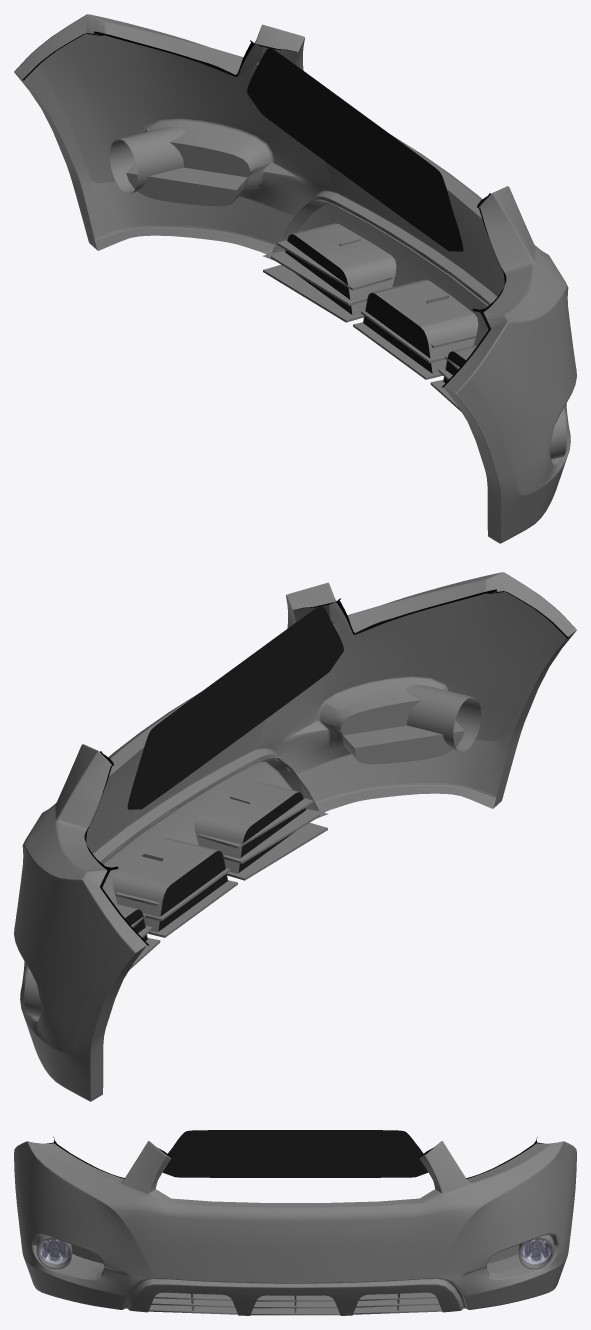
The picture shows the model from 3 angles, top to bottom: view 1: azimuth 30°, elevation 25°; view 2: azimuth 150°, elevation 25°; view 3: azimuth 270°, elevation 25°; orthographic projection. The views are drawn at different scales.
Visible parts, largest first — view 1: Y653_021G_C_Y653_021G_C_4_DaS, Y653_021G_C_Y653_021G_C_6_D, Y653_021G_C_Y653_021G_C_3_DaS, Y653_021G_C_Y653_021G_C_4_DaS_E, Y653_021G_C_Y653_021G_C_7_D; view 2: Y653_021G_C_Y653_021G_C_4_DaS, Y653_021G_C_Y653_021G_C_6_D, Y653_021G_C_Y653_021G_C_4_DaS_E, Y653_021G_C_Y653_021G_C_9_DaS, Y653_021G_C_Y653_021G_C_3_DaS, Y653_021G_C_Y653_021G_C_7_D; view 3: Y653_021G_C_Y653_021G_C_4_DaS, Y653_021G_C_Y653_021G_C_6_D, Y653_021G_C_Y653_021G_C_4_DaS_E, Y653_021G_C_Y653_021G_C_3_DaS, Y653_021G_C_Y653_021G_C_9_DaS, Y653_021G_C_1_N_Y653_021G_C, Y653_021G_C_Y653_021G_C_2_N, Y653_021G_C_Y653_021G_C_5__DTaSI, Y653_021G_C_Y653_021G_C_8__DTaSI, Y653_021G_C_Y653_021G_C_7_D.
Part boxes in pixels (left/top/right/bottom): Y653_021G_C_Y653_021G_C_4_DaS: left=14, top=14, right=576, bottom=543; Y653_021G_C_Y653_021G_C_6_D: left=247, top=48, right=465, bottom=382; Y653_021G_C_Y653_021G_C_3_DaS: left=109, top=121, right=566, bottom=459; Y653_021G_C_Y653_021G_C_4_DaS_E: left=142, top=118, right=576, bottom=464; Y653_021G_C_Y653_021G_C_7_D: left=22, top=31, right=506, bottom=387; Y653_021G_C_Y653_021G_C_4_DaS: left=14, top=572, right=576, bottom=1101; Y653_021G_C_Y653_021G_C_6_D: left=125, top=606, right=343, bottom=940; Y653_021G_C_Y653_021G_C_4_DaS_E: left=14, top=676, right=448, bottom=1022; Y653_021G_C_Y653_021G_C_9_DaS: left=326, top=679, right=466, bottom=764; Y653_021G_C_Y653_021G_C_3_DaS: left=24, top=685, right=481, bottom=1020; Y653_021G_C_Y653_021G_C_7_D: left=84, top=589, right=568, bottom=945; Y653_021G_C_Y653_021G_C_4_DaS: left=14, top=1141, right=576, bottom=1315; Y653_021G_C_Y653_021G_C_6_D: left=162, top=1130, right=428, bottom=1177; Y653_021G_C_Y653_021G_C_4_DaS_E: left=31, top=1233, right=559, bottom=1315; Y653_021G_C_Y653_021G_C_3_DaS: left=36, top=1234, right=557, bottom=1278; Y653_021G_C_Y653_021G_C_9_DaS: left=33, top=1234, right=103, bottom=1278; Y653_021G_C_1_N_Y653_021G_C: left=521, top=1238, right=552, bottom=1264; Y653_021G_C_Y653_021G_C_2_N: left=38, top=1238, right=69, bottom=1264; Y653_021G_C_Y653_021G_C_5__DTaSI: left=521, top=1239, right=551, bottom=1264; Y653_021G_C_Y653_021G_C_8__DTaSI: left=39, top=1239, right=69, bottom=1264; Y653_021G_C_Y653_021G_C_7_D: left=47, top=1137, right=543, bottom=1178.
Size of the model in its own units: 64.46 by 71.54 by 212.
